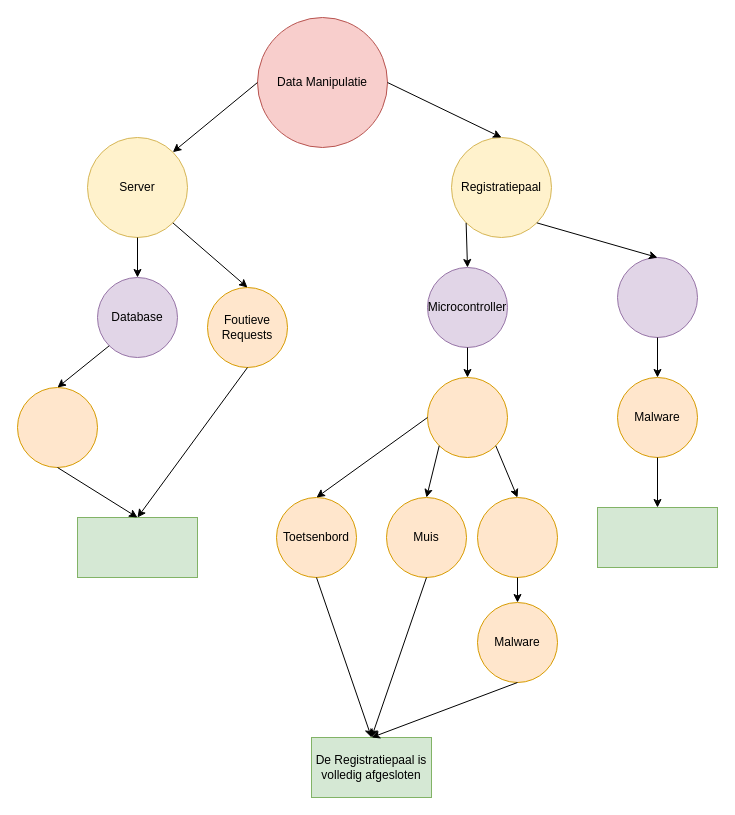
This 735x815 diagram has some shape labels left out. Here are the shapes that lost their labels. From the top down, the box of each, then its label:
(616, 256, 698, 338): QR- of BAR-code
(16, 386, 98, 468): SQL-Injection
(426, 376, 508, 458): Externe apparaten aansluiten
(76, 516, 198, 578): De API negeert ongewenste data
(476, 496, 558, 578): USB-stick
(596, 506, 718, 568): De data vanaf de scanner word gesaniteerd
